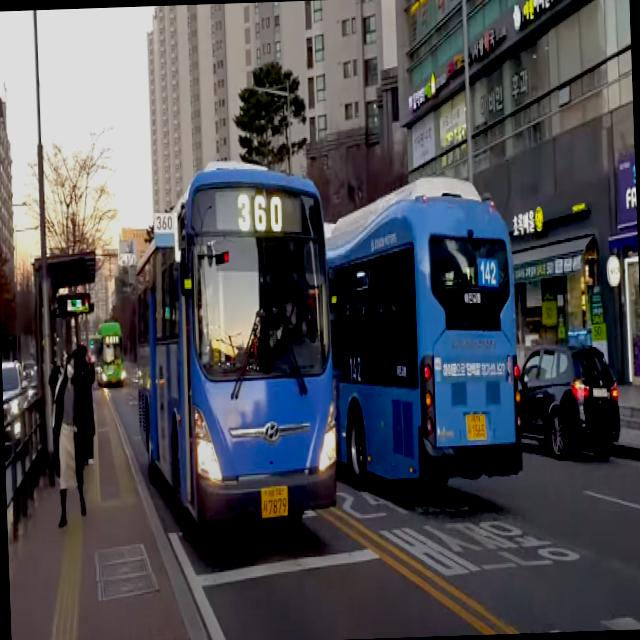bus-number: (235, 189, 283, 234), (105, 335, 118, 344)
